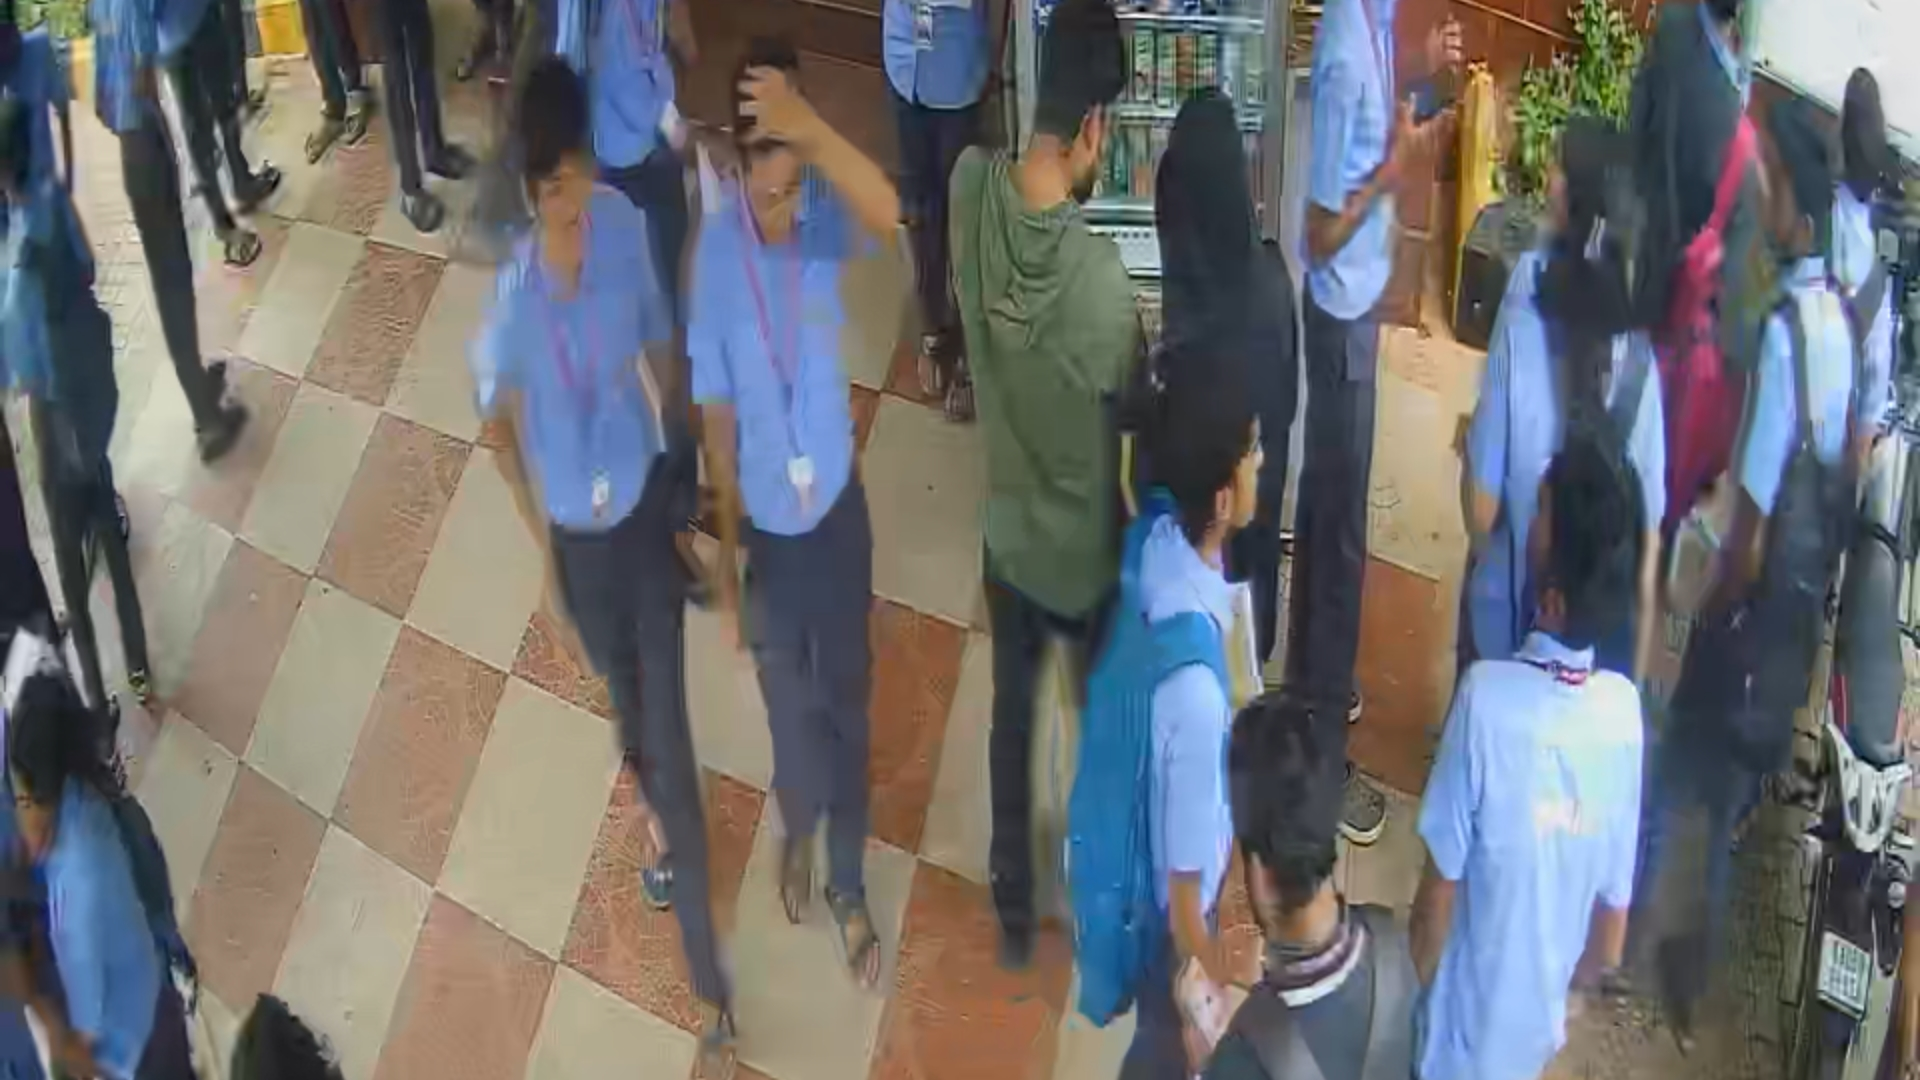not intruder: (473, 51, 737, 1021), (680, 51, 909, 980)
